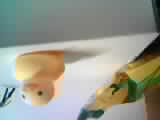duck: (3, 38, 68, 103)
